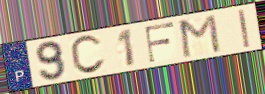1: (114, 27, 137, 69)
9: (33, 39, 68, 83)
C: (68, 33, 108, 76)
F: (143, 20, 177, 65)
I: (236, 8, 252, 50)
M: (178, 12, 223, 60)
